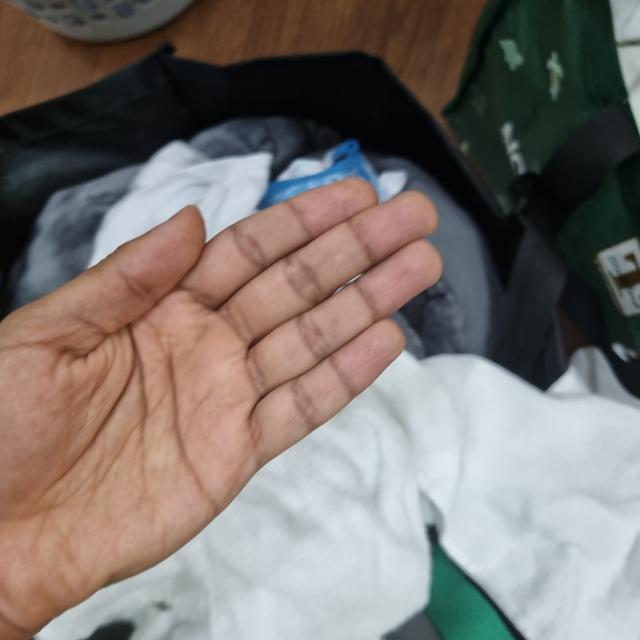Paper: (0, 179, 445, 602)
